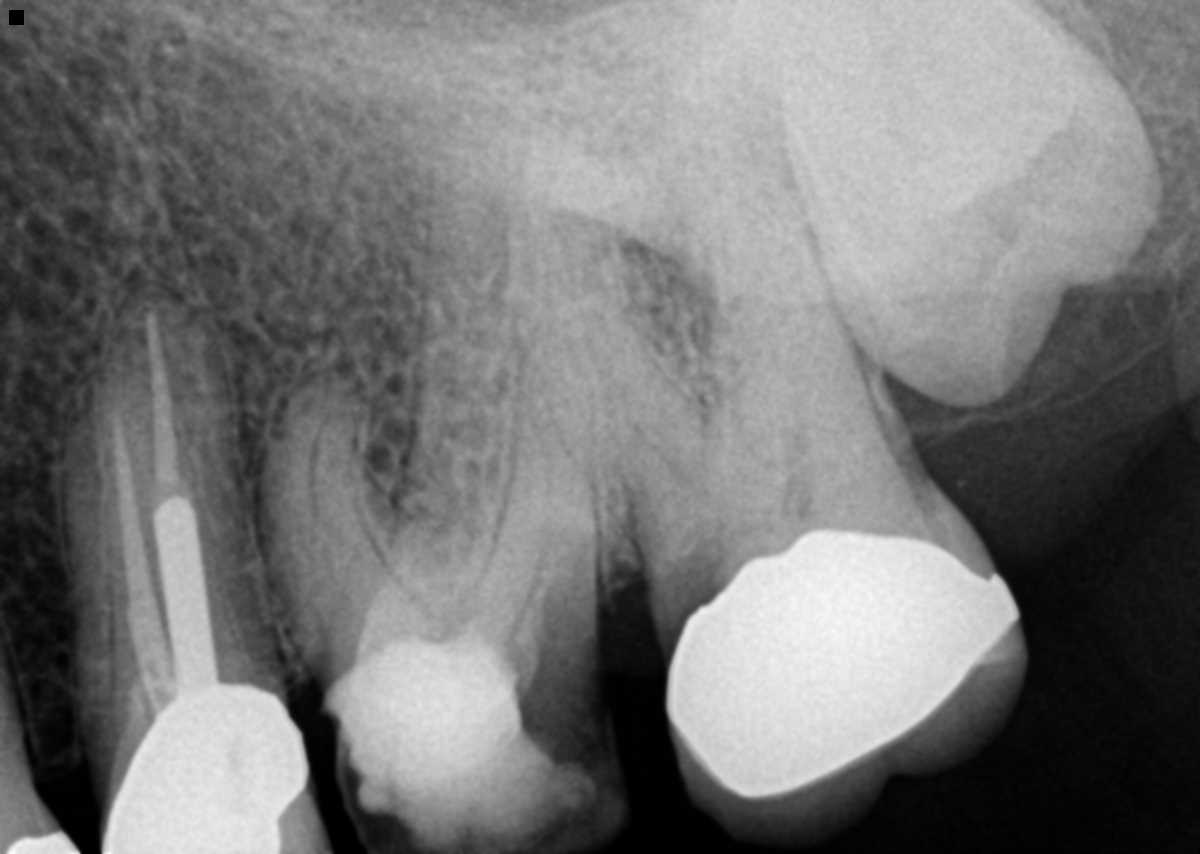Distal Root: (695, 66, 900, 455), (471, 333, 603, 620)
Main Root: (57, 392, 199, 751)
Mesial Canal: (307, 404, 338, 532)
Mesial Root: (534, 191, 719, 536), (249, 362, 437, 687)
Palatal Root: (392, 103, 633, 594)
Root Canal Filling: (110, 406, 175, 710), (146, 312, 180, 488)
decay: (509, 578, 615, 774), (649, 537, 722, 658)
